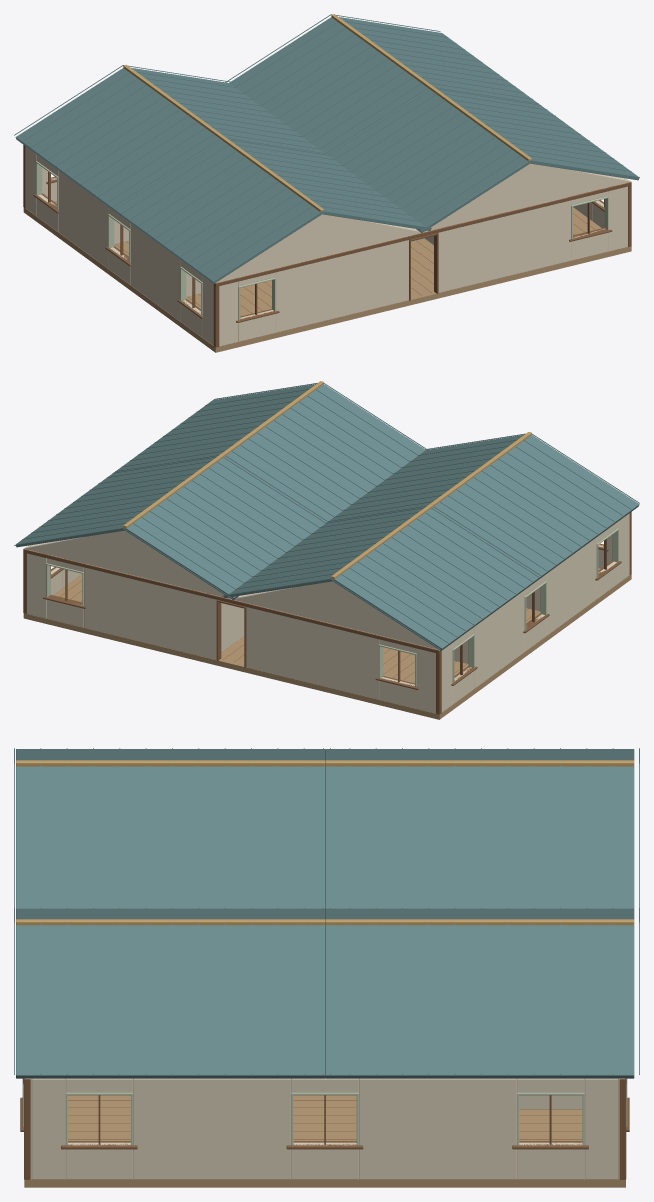
File: main_house.glb
The picture shows the model from 3 angles, top to bottom: view 1: azimuth 30°, elevation 25°; view 2: azimuth 150°, elevation 25°; view 3: azimuth 270°, elevation 25°; orthographic projection. The views are drawn at different scales.
Visible parts, largest first — view 1: Roof_Main_Section_0_0_-1_001-col, Roof_Main_Section_0_1_-1_001-col, Roof_Main_Section_1_0_-1_001-col, Roof_Main_Section_1_1_-1_001-col, Main_SouthExterior_pier_003-col, Main_SouthExterior_pier_002-col, Main_Floor_001-col, Roof_Main_Section_1_0_1_001-col, Roof_Main_Section_0_0_1_001-col, Roof_Main_Section_1_1_1_001-col, Roof_Main_Section_0_1_1_001-col, Roof_Main_Gable_0_-7.9-col (+15 smaller); view 2: Roof_Main_Section_0_1_-1_001-col, Roof_Main_Section_0_0_-1_001-col, Roof_Main_Section_1_1_-1_001-col, Roof_Main_Section_1_0_-1_001-col, Main_NorthExterior_pier_002-col, Main_NorthExterior_pier_003-col, Roof_Main_Section_1_1_1_001-col, Roof_Main_Section_0_1_1_001-col, Roof_Main_Section_1_0_1_001-col, Roof_Main_Section_0_0_1_001-col, Main_Floor_001-col, Roof_Main_Gable_0_7.9-col (+17 smaller); view 3: Roof_Main_Section_1_1_1_001-col, Roof_Main_Section_1_0_1_001-col, Roof_Main_Section_0_1_1_001-col, Roof_Main_Section_0_0_1_001-col, Main_SideExterior_pier_006-col, Main_SideExterior_pier_007-col, Main_Floor_001-col, Roof_Main_Section_0_1_-1_001-col, Roof_Main_Section_1_1_-1_001-col, Roof_Main_Section_0_0_-1_001-col, Roof_Main_Section_1_0_-1_001-col, Main_SideExterior_pier_005-col (+14 smaller).
Part boxes in pixels (x1,y1,x2,y2): Roof_Main_Section_0_0_-1_001-col: (114,140,322,283); Roof_Main_Section_0_1_-1_001-col: (15,68,221,211); Roof_Main_Section_1_0_-1_001-col: (328,90,530,232); Roof_Main_Section_1_1_-1_001-col: (229,17,429,154); Main_SouthExterior_pier_003-col: (438,197,571,292); Main_SouthExterior_pier_002-col: (276,236,408,332); Main_Floor_001-col: (23,201,631,352); Roof_Main_Section_1_0_1_001-col: (438,89,639,180); Roof_Main_Section_0_0_1_001-col: (230,140,431,230); Roof_Main_Section_1_1_1_001-col: (339,17,539,104); Roof_Main_Section_0_1_1_001-col: (131,67,326,154); Roof_Main_Gable_0_-7.9-col: (216,214,420,282); Roof_Main_Section_0_1_-1_001-col: (333,507,540,650); Roof_Main_Section_0_0_-1_001-col: (433,435,639,578); Roof_Main_Section_1_1_-1_001-col: (125,456,326,600); Roof_Main_Section_1_0_-1_001-col: (225,384,425,521); Main_NorthExterior_pier_002-col: (246,603,379,699); Main_NorthExterior_pier_003-col: (84,563,216,659); Roof_Main_Section_1_1_1_001-col: (16,456,216,547); Roof_Main_Section_0_1_1_001-col: (223,507,425,597); Roof_Main_Section_1_0_1_001-col: (114,384,315,472); Roof_Main_Section_0_0_1_001-col: (328,435,523,521); Main_Floor_001-col: (23,568,631,719); Roof_Main_Gable_0_7.9-col: (234,581,438,649); Roof_Main_Section_1_1_1_001-col: (325,925,634,1078); Roof_Main_Section_1_0_1_001-col: (16,925,324,1078); Roof_Main_Section_0_1_1_001-col: (325,766,634,908); Roof_Main_Section_0_0_1_001-col: (16,766,324,908); Main_SideExterior_pier_006-col: (133,1078,291,1179); Main_SideExterior_pier_007-col: (359,1078,516,1179); Main_Floor_001-col: (24,1095,625,1187); Roof_Main_Section_0_1_-1_001-col: (325,749,634,760); Roof_Main_Section_1_1_-1_001-col: (325,908,634,919); Roof_Main_Section_0_0_-1_001-col: (16,749,324,760); Roof_Main_Section_1_0_-1_001-col: (16,908,324,919); Main_SideExterior_pier_005-col: (31,1078,65,1179).
Bounding box in the file's own units: 20.52 × 5.51 × 16.64.
